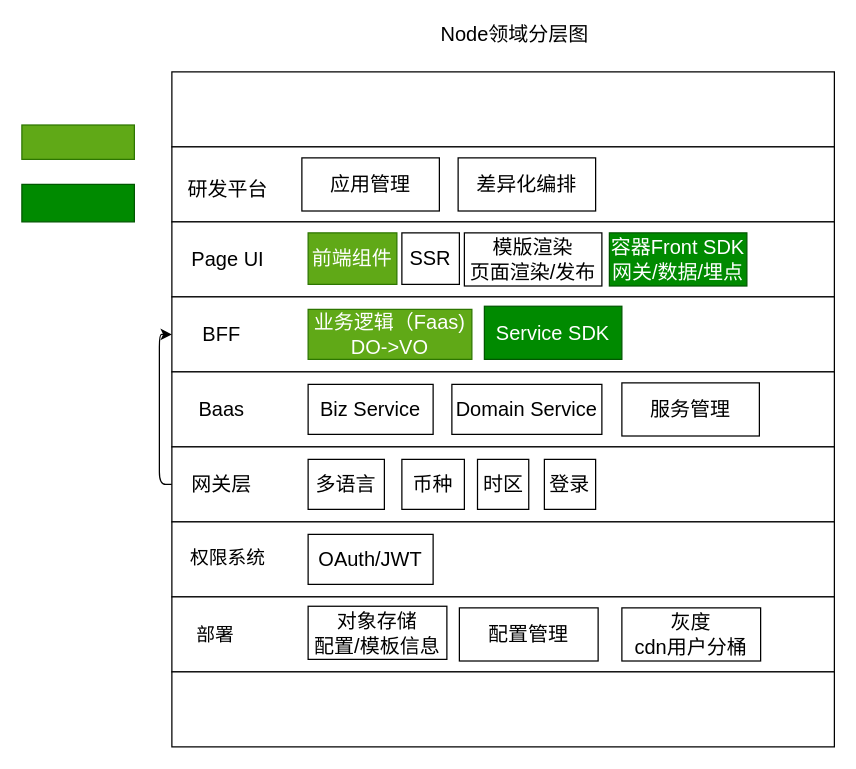
Some shapes in this 856 by 769 pixel diagram are drawn without their labels. The box of each missing label's shape, as (x1, y1, x2, y2) in pixels:
一体化应用: (21, 124, 134, 159)
页面渲染: (21, 183, 134, 222)
